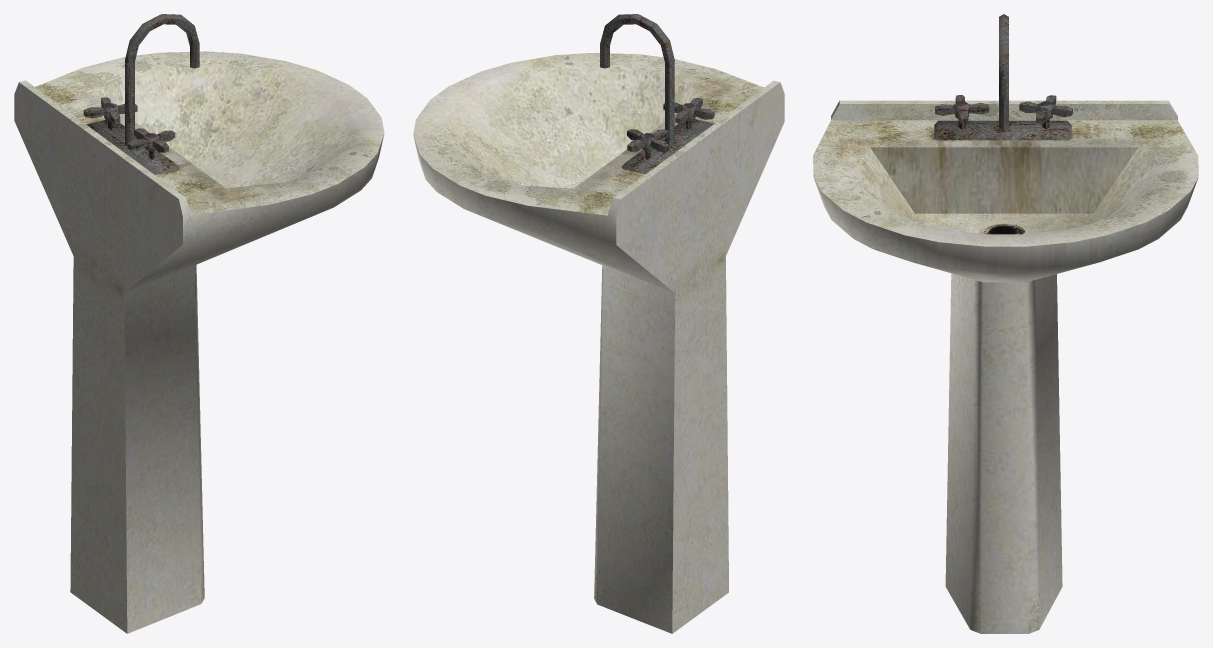
File: furnituresink001a.glb
The picture shows the model from 3 angles, left to right: view 1: azimuth 30°, elevation 25°; view 2: azimuth 150°, elevation 25°; view 3: azimuth 270°, elevation 25°; orthographic projection. The views are drawn at different scales.
Visible parts, largest first — view 1: 0_FurnitureToletSink001a; view 2: 0_FurnitureToletSink001a; view 3: 0_FurnitureToletSink001a.
Part boxes in pixels (bbox=[...]): 0_FurnitureToletSink001a: bbox=[14, 14, 384, 633]; 0_FurnitureToletSink001a: bbox=[413, 14, 784, 633]; 0_FurnitureToletSink001a: bbox=[813, 14, 1198, 633].
Size of the model in its own units: 0.5296 by 1.13 by 0.6607.
Materials: 1 (1 with a texture image).
